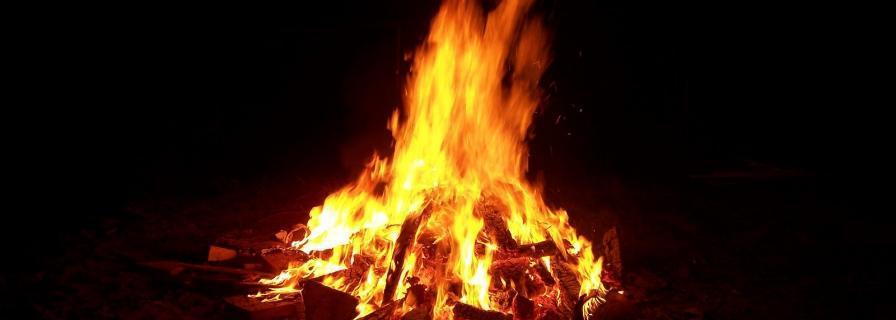fire: (223, 1, 626, 317)
